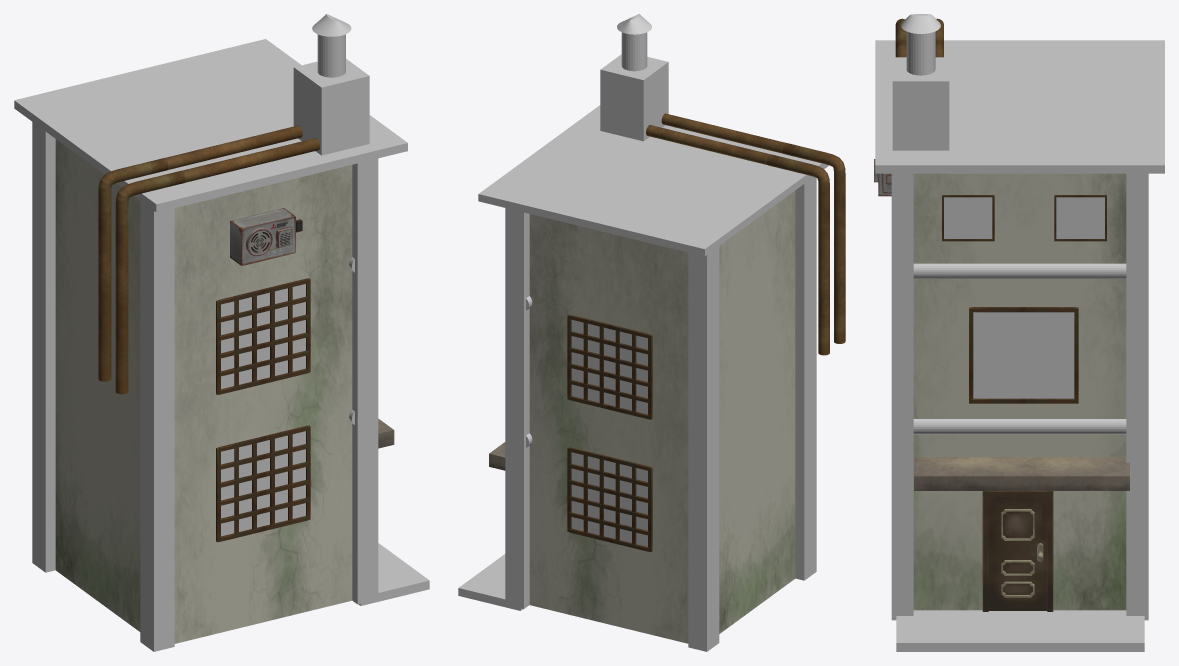
The model's file is Nha 3.1.fbx.
The picture shows the model from 3 angles, left to right: view 1: azimuth 30°, elevation 25°; view 2: azimuth 150°, elevation 25°; view 3: azimuth 270°, elevation 25°; orthographic projection. The views are drawn at different scales.
Visible parts, largest first — view 1: tuong vang 1.004, cot ngang 4.003, cot ngang 2.003, Cube.066, thanh cua rir sets .034, thanh cua rir sets .035, Cube.067, Cube.065, Cube.068, Ong ri set.015, Ong ri set.024, Cylinder.037 (+4 smaller); view 2: tuong vang 1.004, cot ngang 4.003, cot ngang 2.003, Cube.066, Cube.067, Cube.065, thanh cua rir sets .036, thanh cua rir sets .037, Cube.068, Ong ri set.024, Ong ri set.015, cot ngang 3.007 (+3 smaller); view 3: tuong vang 1.004, cot ngang 2.003, Cube.067, Cube.066, thanh cua rir sets .038, cot ngang 3.007, Cube.065, Them nha.010, Plane.036, Cube.068, cot tron.005, cot tron.006 (+4 smaller).
Boxes of the visible parts, x1,y1,x2,y2 form: tuong vang 1.004: (55, 139, 352, 643); cot ngang 4.003: (32, 122, 174, 651); cot ngang 2.003: (352, 158, 378, 604); Cube.066: (79, 62, 313, 196); thanh cua rir sets .034: (216, 278, 310, 394); thanh cua rir sets .035: (216, 425, 310, 542); Cube.067: (171, 39, 407, 174); Cube.065: (14, 84, 221, 212); Cube.068: (293, 59, 369, 155); Ong ri set.015: (98, 158, 168, 381); Ong ri set.024: (115, 170, 185, 394); Cylinder.037: (230, 208, 302, 265); tuong vang 1.004: (529, 191, 795, 643); cot ngang 4.003: (688, 177, 816, 651); cot ngang 2.003: (505, 208, 529, 608); Cube.066: (563, 129, 762, 241); Cube.067: (478, 105, 680, 221); Cube.065: (646, 149, 828, 256); thanh cua rir sets .036: (567, 314, 652, 419); thanh cua rir sets .037: (567, 447, 652, 551); Cube.068: (600, 54, 668, 141); Ong ri set.024: (782, 143, 845, 343); Ong ri set.015: (767, 154, 829, 355); cot ngang 3.007: (458, 554, 522, 610); tuong vang 1.004: (913, 173, 1126, 610); cot ngang 2.003: (891, 173, 1148, 620); Cube.067: (875, 118, 1164, 173); Cube.066: (875, 72, 1164, 118); thanh cua rir sets .038: (969, 307, 1078, 403); cot ngang 3.007: (896, 610, 1144, 651); Cube.065: (875, 40, 1164, 72); Them nha.010: (914, 457, 1129, 490); Plane.036: (988, 496, 1047, 610); Cube.068: (892, 57, 949, 150); cot tron.005: (913, 419, 1126, 434); cot tron.006: (913, 263, 1126, 278).
Size of the model in its own units: 801 by 1438 by 638.
